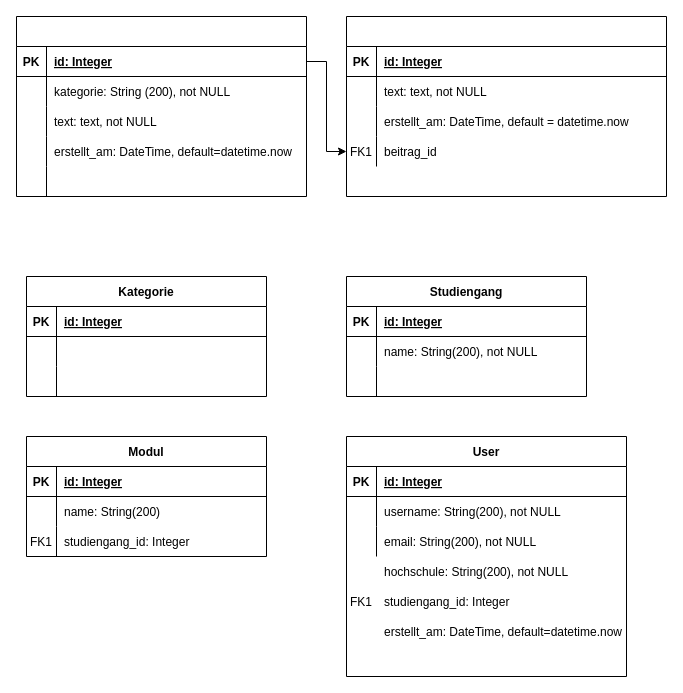
This 683x693 diagram has some shape labels left out. Here are the shapes that lost their labels. From the top down, the box of each, then its label:
(16, 16, 306, 196): Beitrag
(346, 16, 666, 196): Antwort
